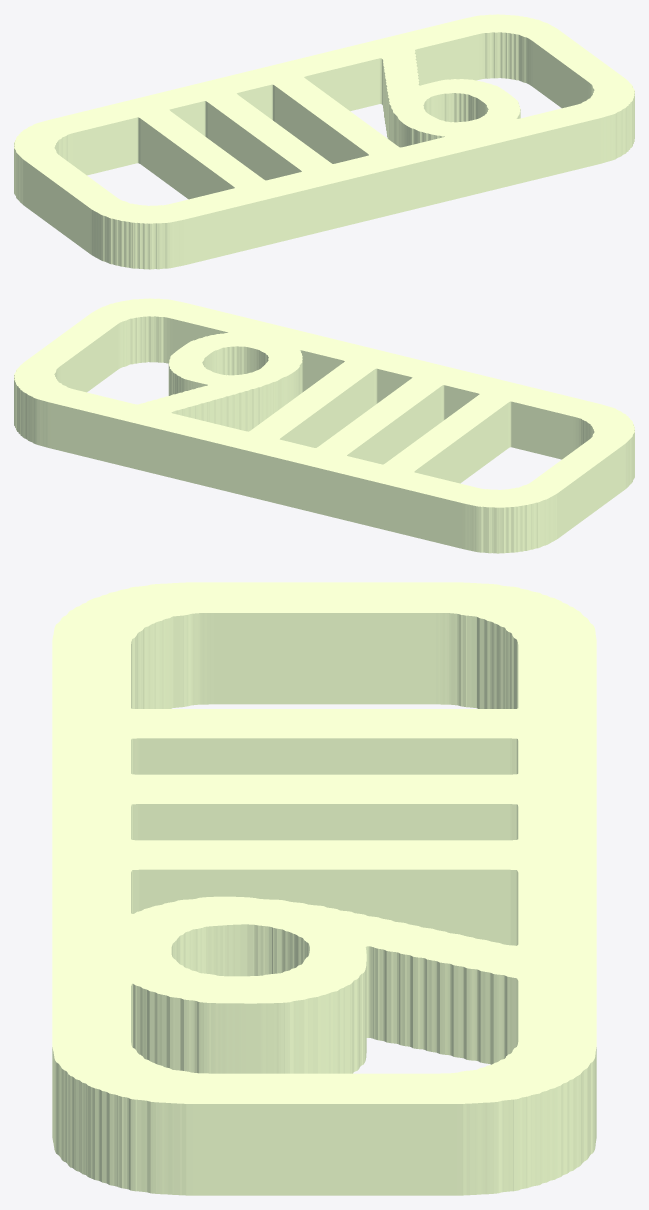
File: iii6.glb
3 renders of one model, top to bottom at view 1: azimuth 30°, elevation 25°; view 2: azimuth 150°, elevation 25°; view 3: azimuth 270°, elevation 25°, orthographic. The views are drawn at different scales.
Parts seen in each view (by area): view 1: iii6; view 2: iii6; view 3: iii6.
Boxes of the visible parts, x1,y1,x2,y2 form: iii6: (14,14,634,269); iii6: (14,298,634,553); iii6: (52,582,596,1195).
Bounding box in the file's own units: 183 × 15 × 80.78.
